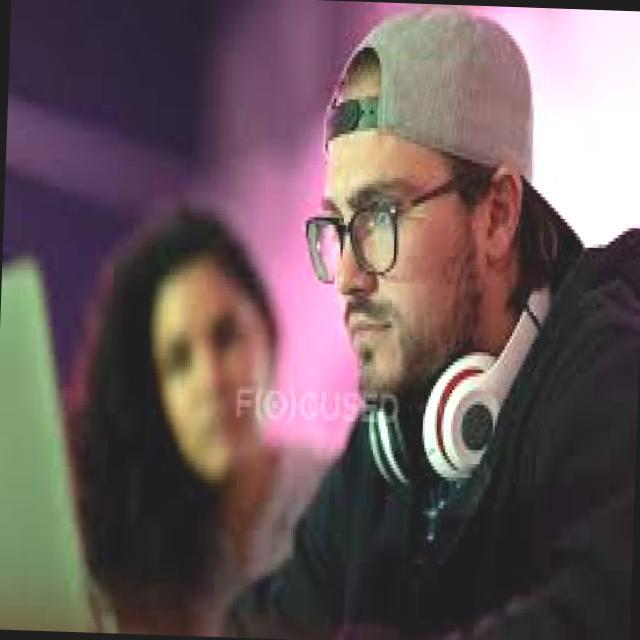cap: (314, 0, 556, 199)
